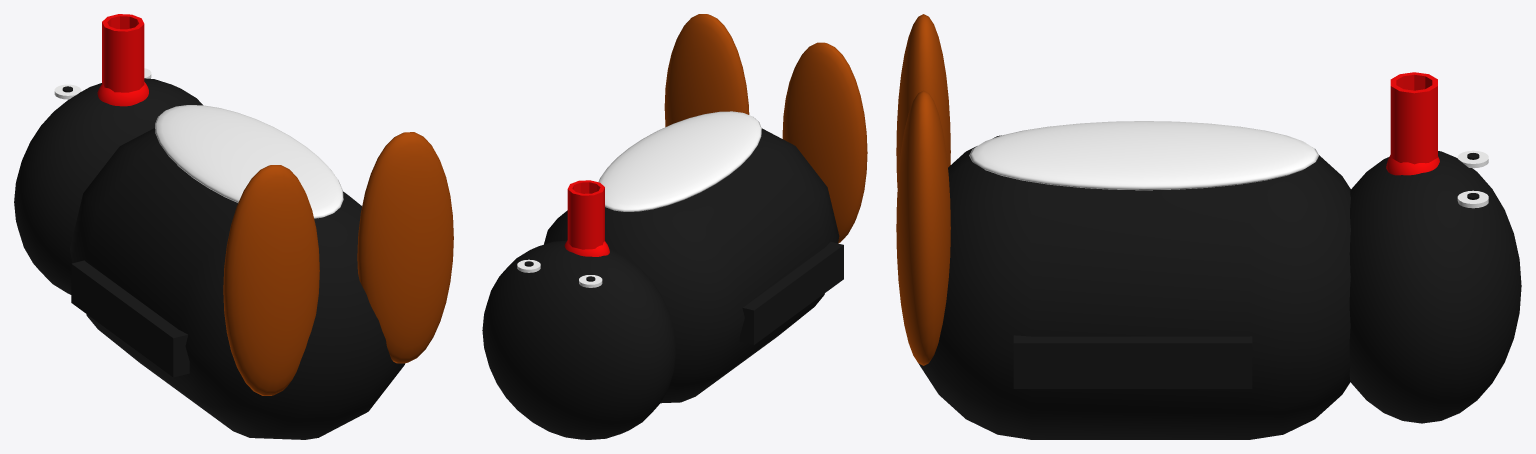
Rendered from Nootd.FBX.
3 views of the same model, side by side, from view 1: azimuth 30°, elevation 25°; view 2: azimuth 150°, elevation 25°; view 3: azimuth 270°, elevation 25° (orthographic). The views are drawn at different scales.
Visible parts, largest first — view 1: Capsule001, Cylinder001; view 2: Capsule001, Cylinder001; view 3: Capsule001, Cylinder001.
Part boxes in pixels (left/top/right/bottom): Capsule001: left=14, top=68, right=453, bottom=439; Cylinder001: left=97, top=14, right=148, bottom=106; Capsule001: left=482, top=14, right=867, bottom=439; Cylinder001: left=564, top=180, right=609, bottom=256; Capsule001: left=896, top=14, right=1521, bottom=439; Cylinder001: left=1386, top=72, right=1439, bottom=175.
Bounding box in the file's own units: 12.8 × 15.64 × 23.81.
